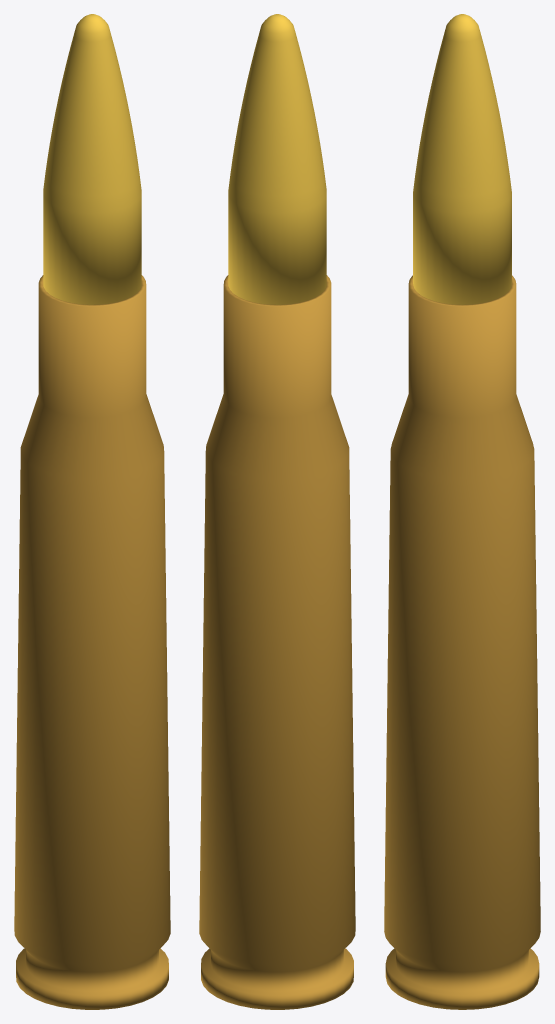
Rendered from Bala.fbx.
3 views of the same model, side by side, from view 1: azimuth 30°, elevation 25°; view 2: azimuth 150°, elevation 25°; view 3: azimuth 270°, elevation 25° (orthographic).
Parts seen in each view (by area): view 1: Cylinder, Cylinder.003; view 2: Cylinder, Cylinder.003; view 3: Cylinder, Cylinder.003.
Part boxes in pixels (x1=…): Cylinder: x1=14, y1=275, x2=170, y2=1009; Cylinder.003: x1=43, y1=14, x2=141, y2=304; Cylinder: x1=199, y1=275, x2=355, y2=1009; Cylinder.003: x1=228, y1=14, x2=326, y2=304; Cylinder: x1=384, y1=275, x2=540, y2=1009; Cylinder.003: x1=413, y1=14, x2=511, y2=304.
Bounding box in the file's own units: 4.2 × 28.47 × 4.2.
